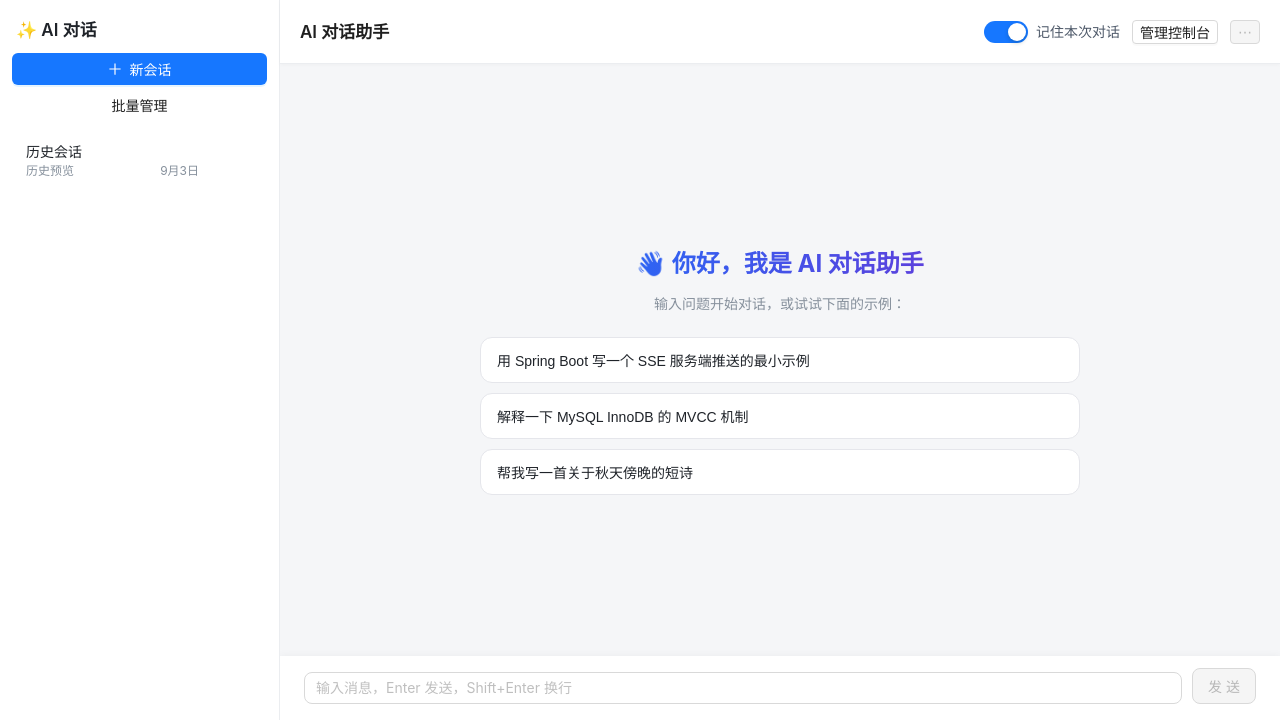
Scenario: App 持久化（T10） › 关闭记忆开关后发送：无状态对话不写入会话 ID
Click the 1st switch with test id "remember-switch" at (1006, 32), box [984,20,1028,42]
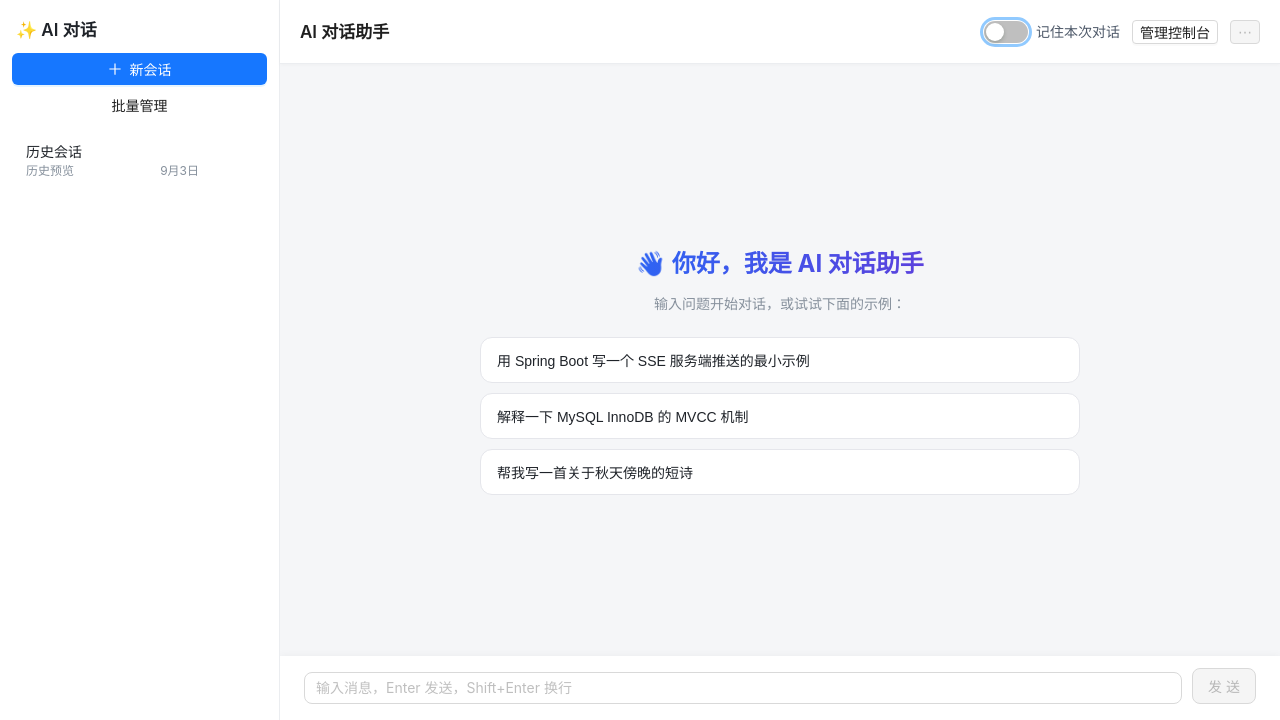
Type "无状态提问" into the text box with test id "chat-input" at (743, 688), box [304,672,1182,704]
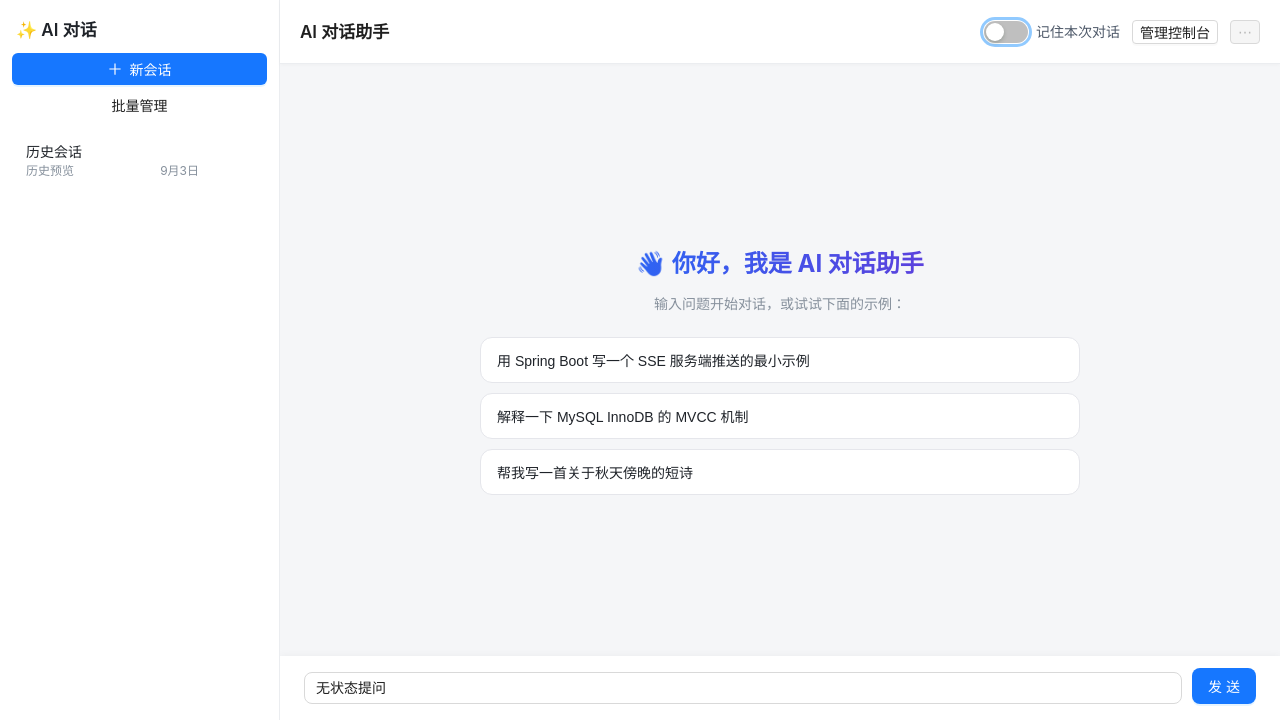
Click the button with test id "chat-send" at (1224, 686), box [1192,668,1256,704]
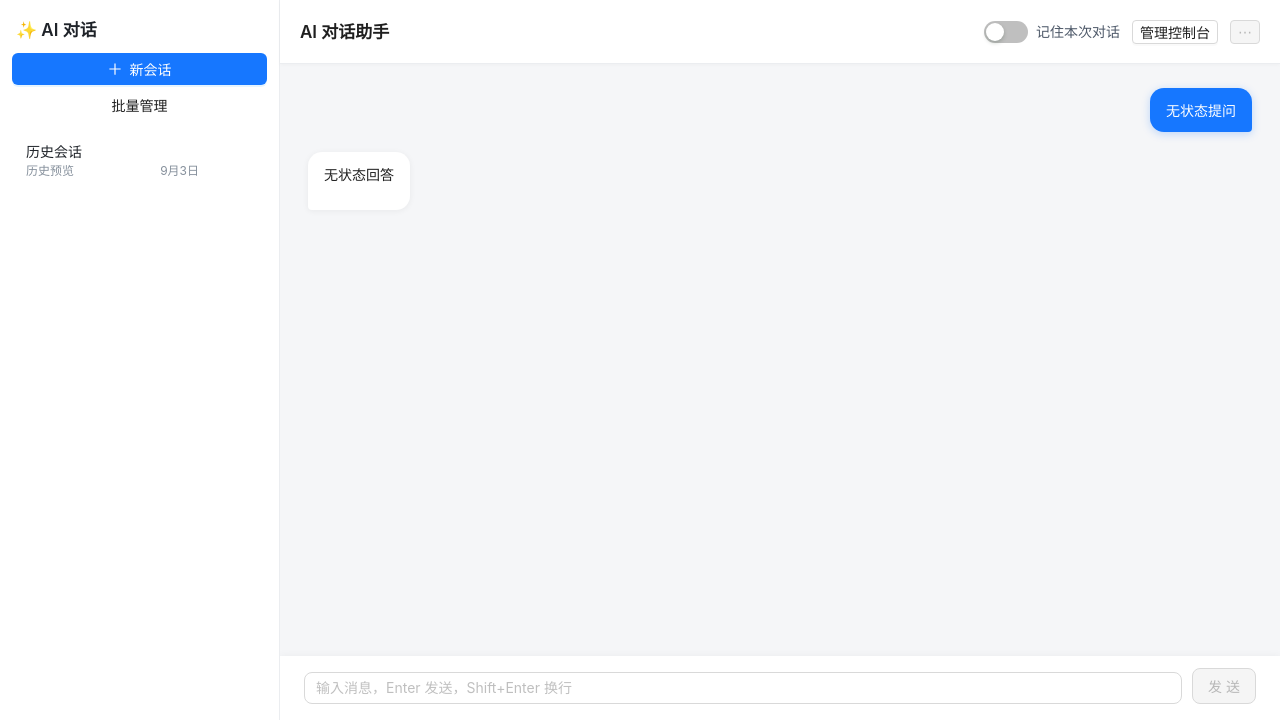
expect the text "无状态提问" is shown: met, box [1166,100,1236,120]
